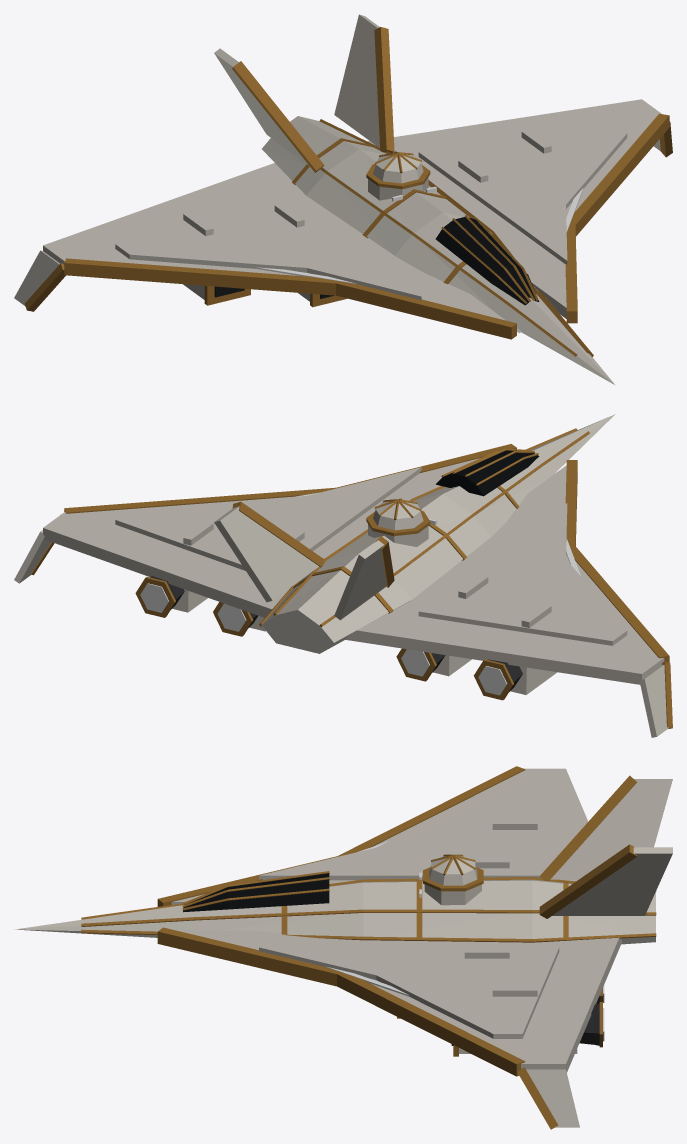
The model's file is bomber_t3.glb.
The picture shows the model from 3 angles, top to bottom: view 1: azimuth 30°, elevation 25°; view 2: azimuth 150°, elevation 25°; view 3: azimuth 270°, elevation 25°; orthographic projection.
Parts seen in each view (by area): view 1: body; view 2: body; view 3: body.
Boxes of the visible parts, left/top/right/bottom form: body: left=14, top=14, right=672, bottom=384; body: left=14, top=414, right=672, bottom=737; body: left=14, top=766, right=672, bottom=1129.
Size of the model in its own units: 15.38 by 3.69 by 13.45.
